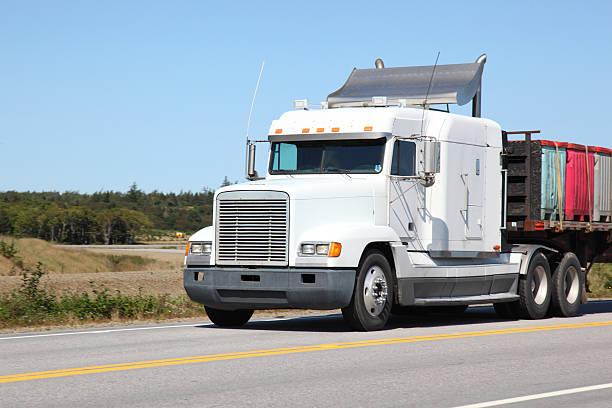Truck: (178, 38, 609, 344)
